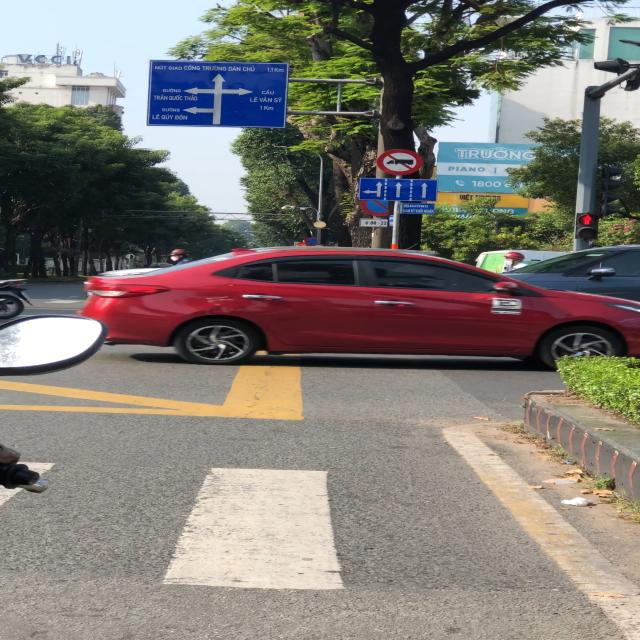Bien bao cam xe so-mi ro-mooc: (377, 147, 427, 177)
